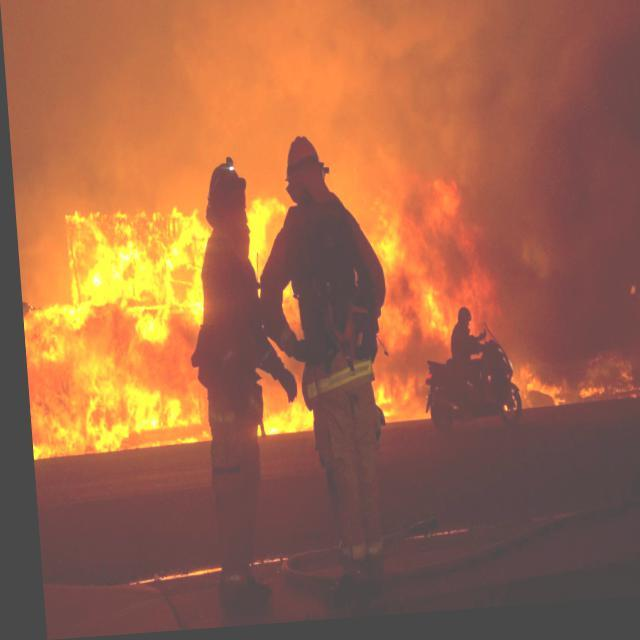Fire: (364, 198, 486, 420), (240, 197, 285, 295), (248, 388, 310, 440)
